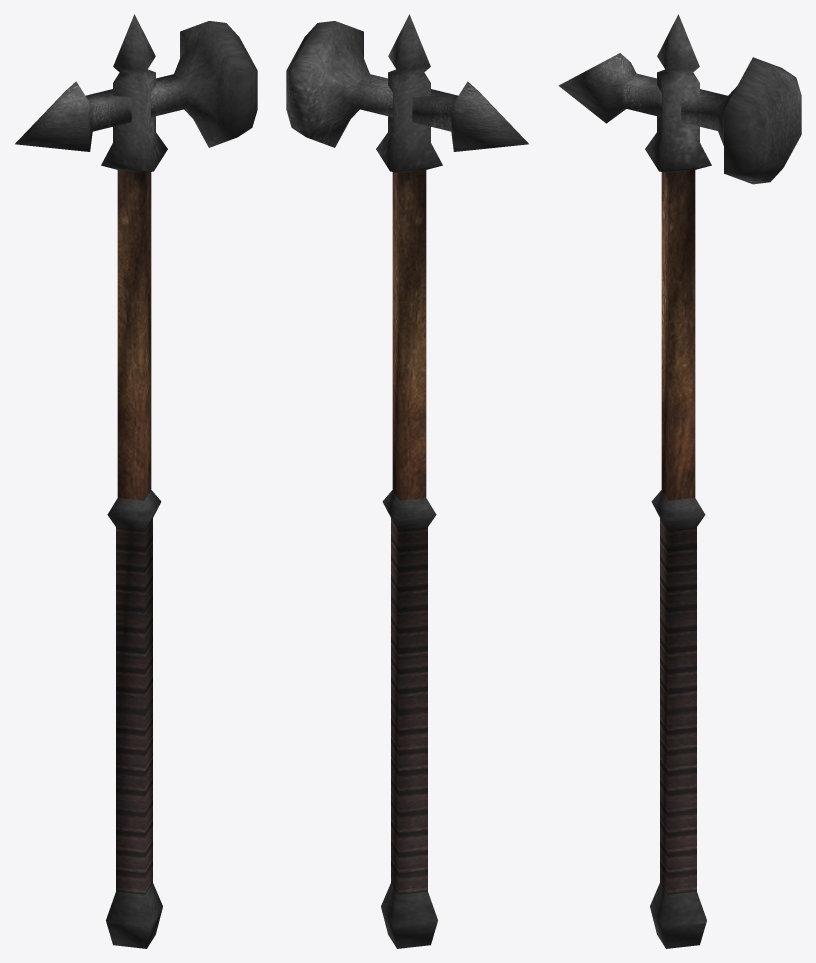
File: Pole_Warhammer.fbx
3 views of the same model, side by side, from view 1: azimuth 30°, elevation 25°; view 2: azimuth 150°, elevation 25°; view 3: azimuth 330°, elevation 25° (orthographic).
Parts seen in each view (by area): view 1: Warhammer; view 2: Warhammer; view 3: Warhammer.
Boxes of the visible parts, x1,y1,x2,y2 form: Warhammer: (15,14,257,948); Warhammer: (286,14,528,948); Warhammer: (558,14,801,948).
Bounding box in the file's own units: 37.15 × 146 × 16.48.
